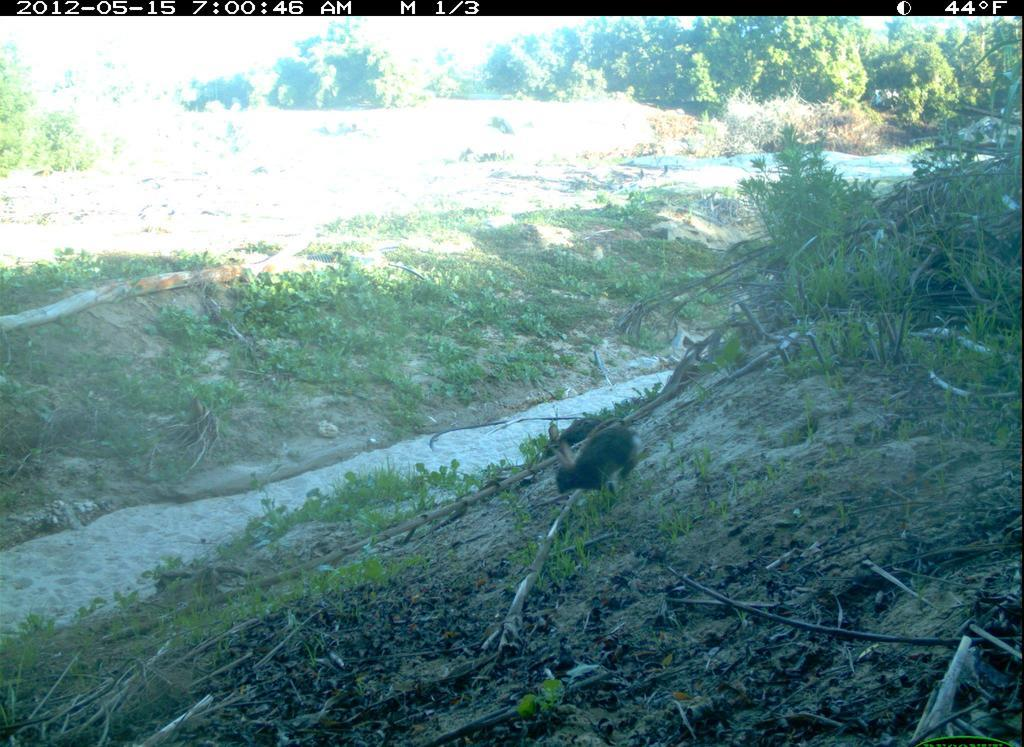rabbit: (543, 411, 657, 507)
